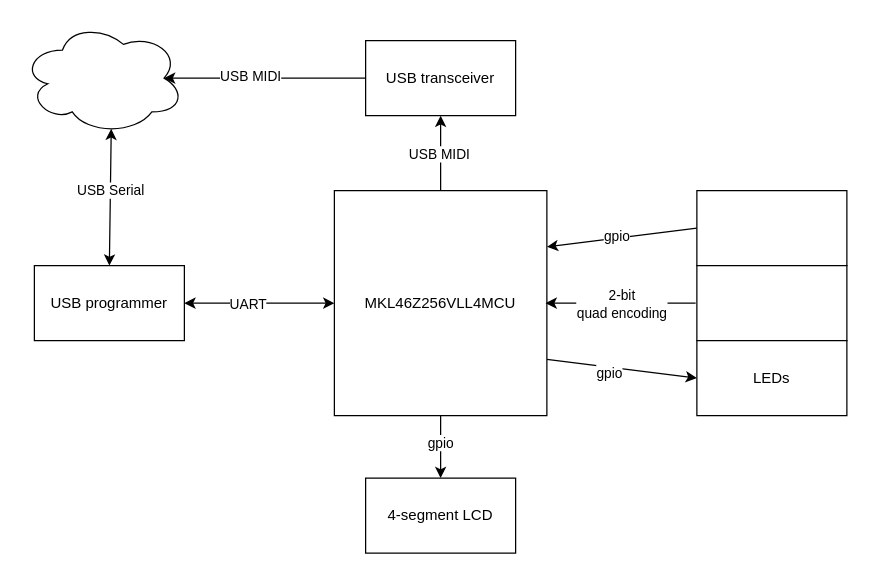
Some shapes in this 869 by 575 pixel diagram are drawn without their labels. The shapes that lost their labels are listed below. From the top down, each one's centre as x and y in pixels, then its label:
point 102,77: Host / Dev machine
point 771,227: Buttons
point 771,302: Quad encoders
